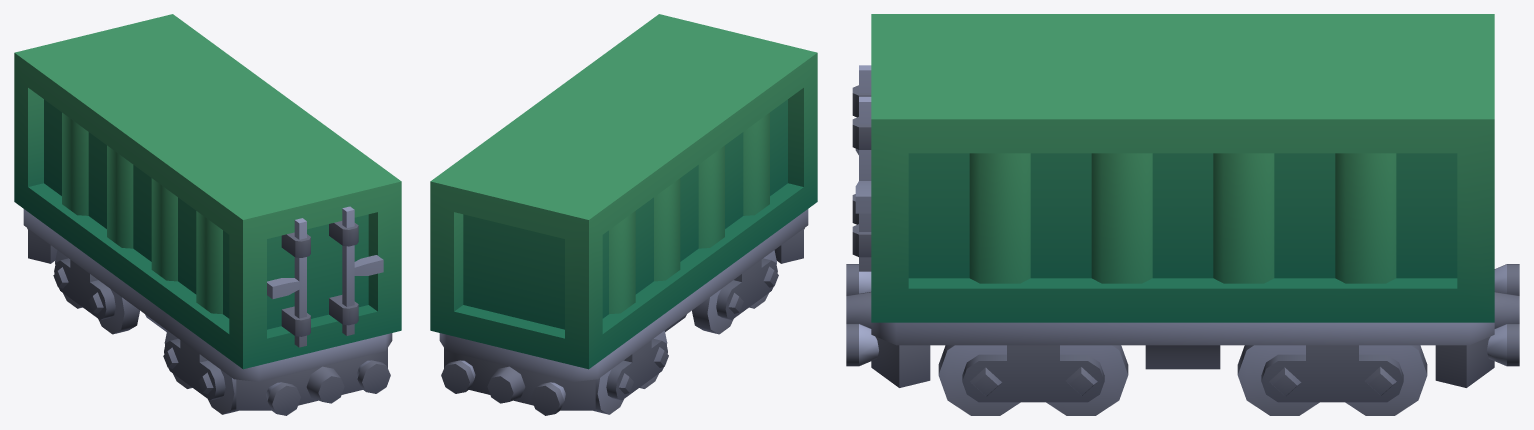
File: train-carriage-container-green.glb
3 renders of one model, left to right at view 1: azimuth 30°, elevation 25°; view 2: azimuth 150°, elevation 25°; view 3: azimuth 270°, elevation 25°, orthographic. The views are drawn at different scales.
Visible parts, largest first — view 1: cargo, train-carriage-container-green, wheels-back, wheels-front; view 2: cargo, train-carriage-container-green, wheels-front, wheels-back; view 3: cargo, train-carriage-container-green, wheels-front, wheels-back.
Part boxes in pixels (<box>): cargo: <box>14,14,401,369</box>; train-carriage-container-green: <box>23,209,392,415</box>; wheels-back: <box>53,250,139,334</box>; wheels-front: <box>163,330,238,414</box>; cargo: <box>430,14,817,369</box>; train-carriage-container-green: <box>439,209,808,415</box>; wheels-front: <box>692,250,778,334</box>; wheels-back: <box>593,330,668,414</box>; cargo: <box>852,14,1494,322</box>; train-carriage-container-green: <box>846,264,1519,387</box>; wheels-front: <box>938,345,1128,415</box>; wheels-back: <box>1237,345,1427,415</box>.
Bounding box in the file's own units: 1 × 1.36 × 2.7.
